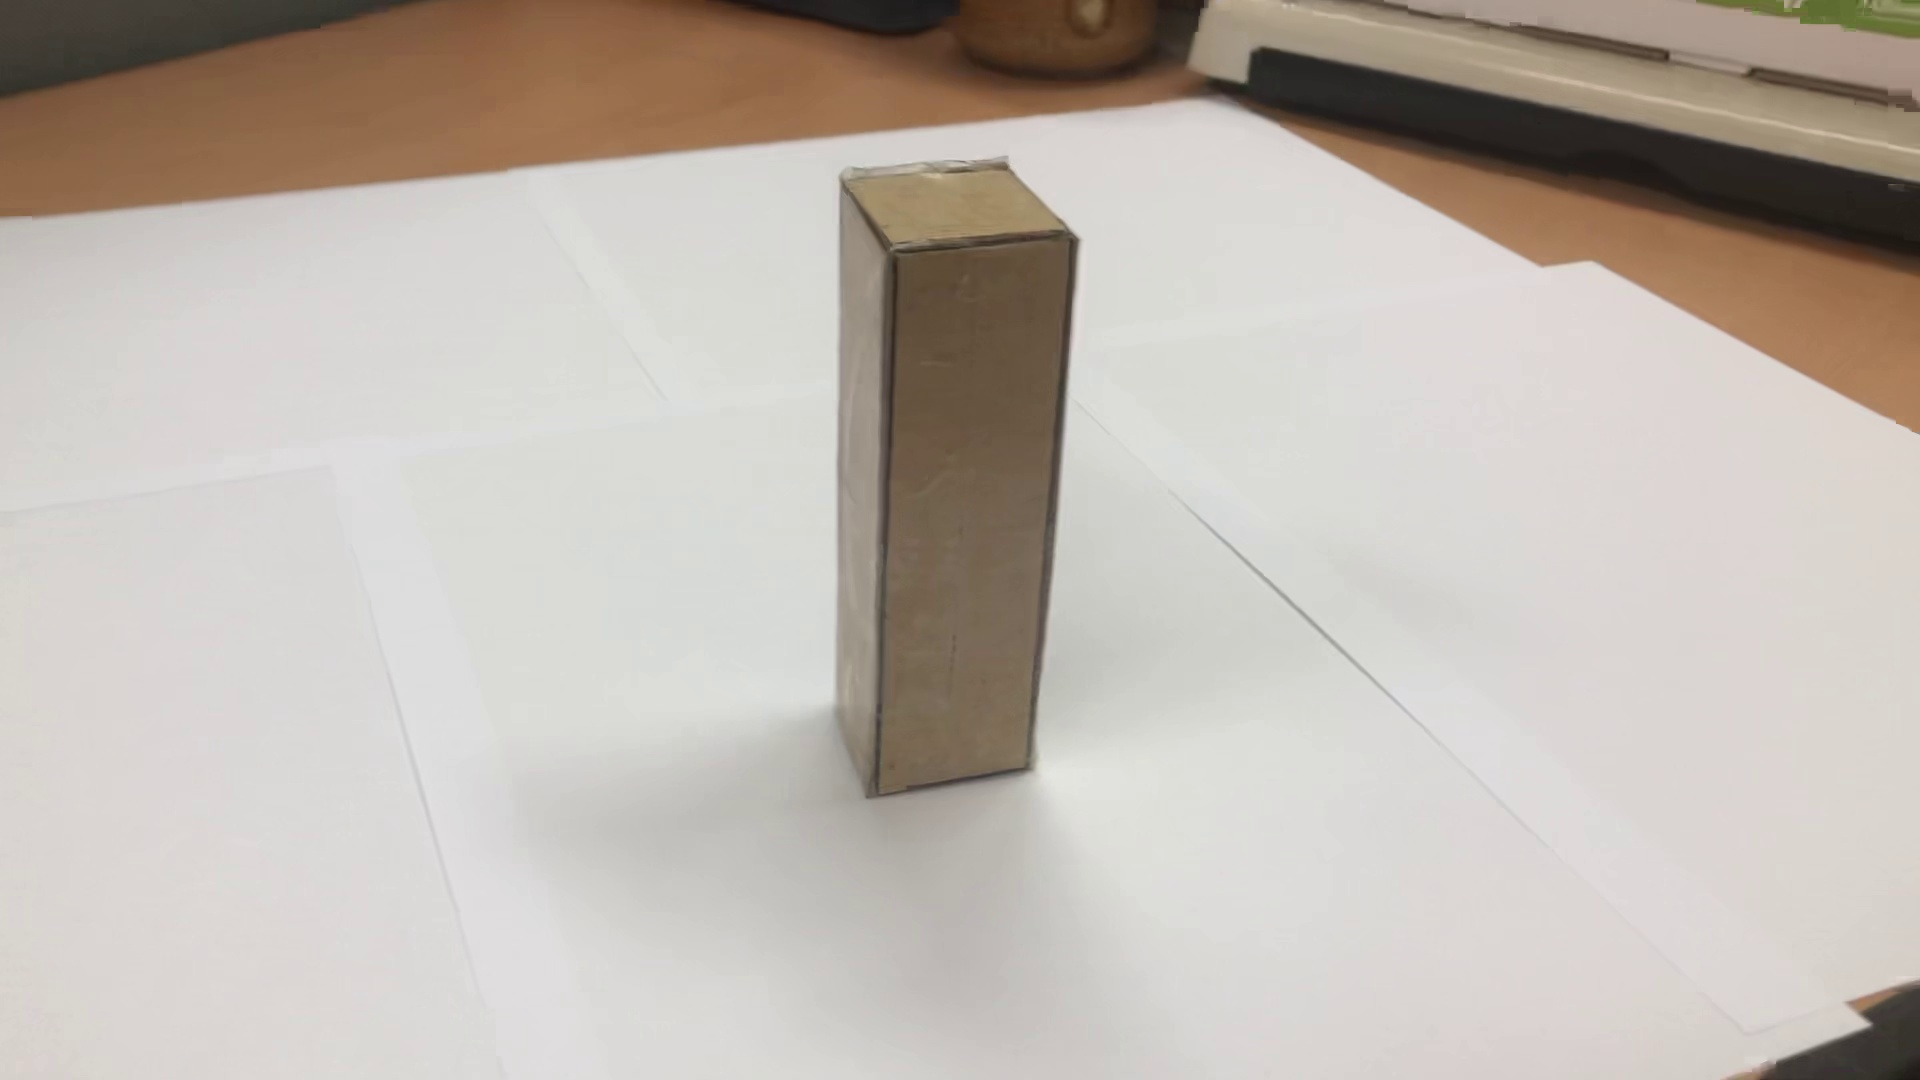box: (814, 135, 1097, 835)
